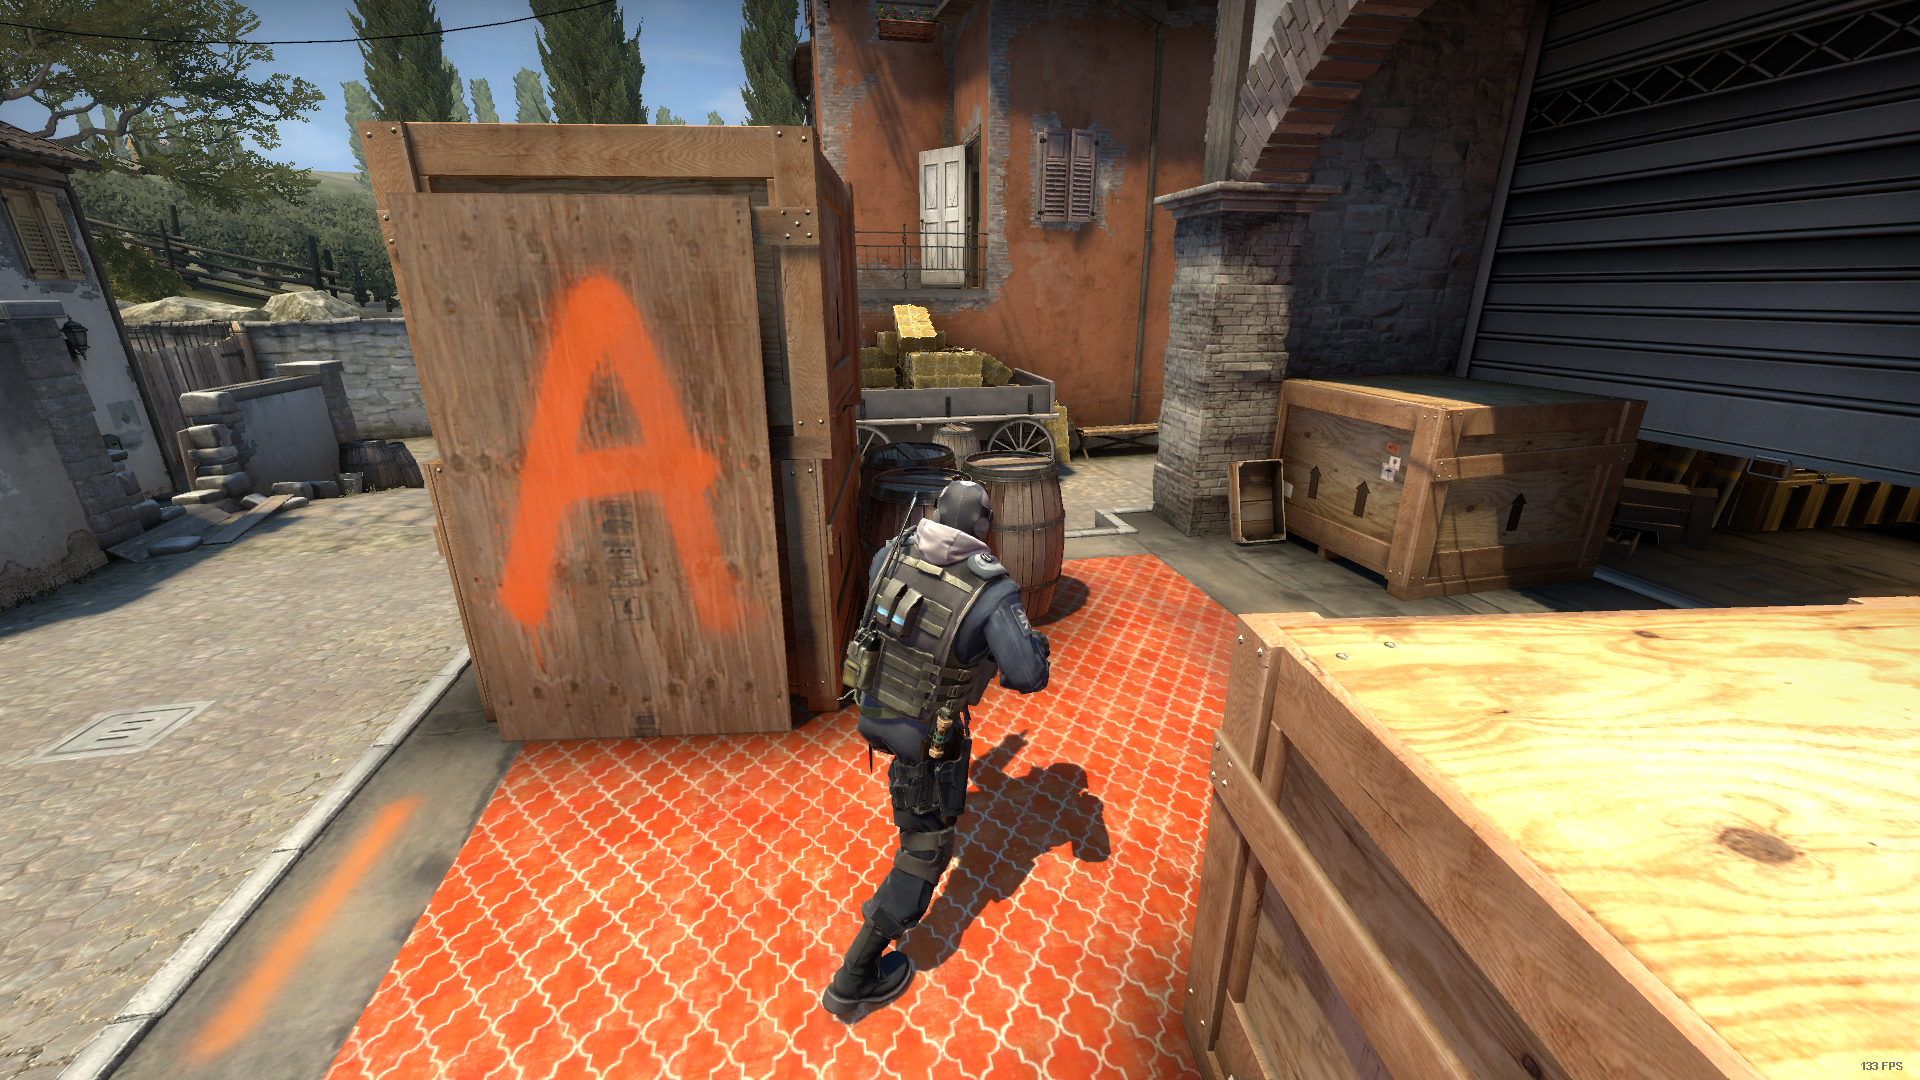ct: (818, 476, 1059, 1035)
